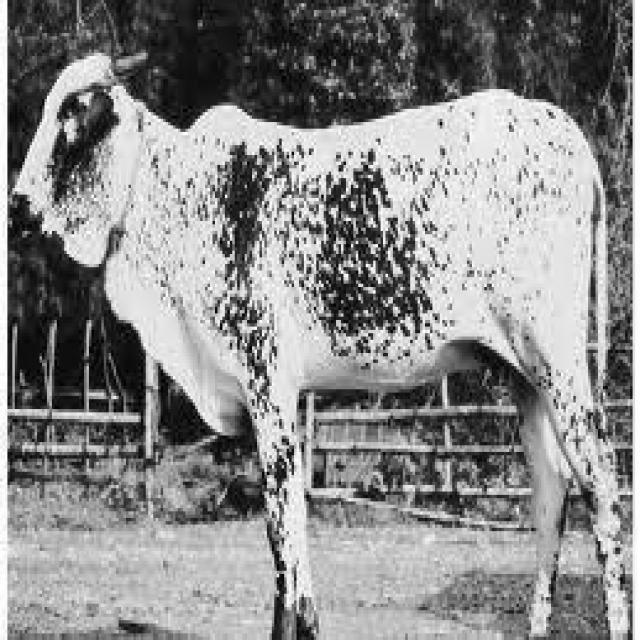Cow: (10, 46, 630, 637)
